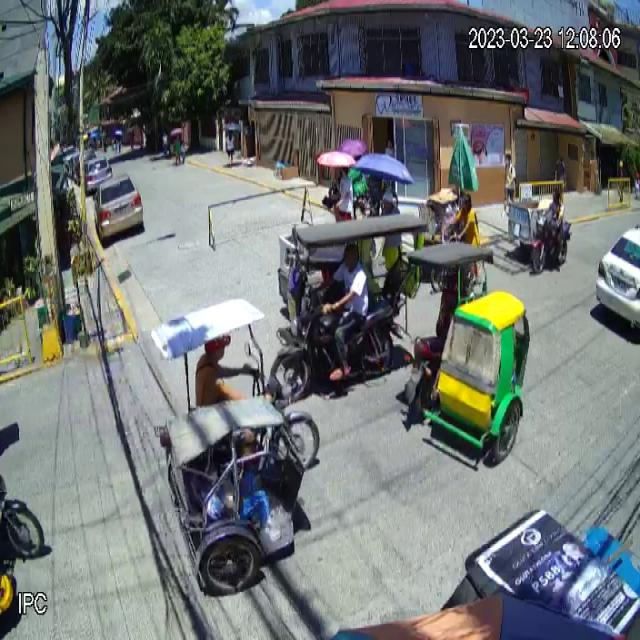Tricycle: (147, 298, 322, 596), (270, 207, 430, 410), (403, 238, 533, 468)
